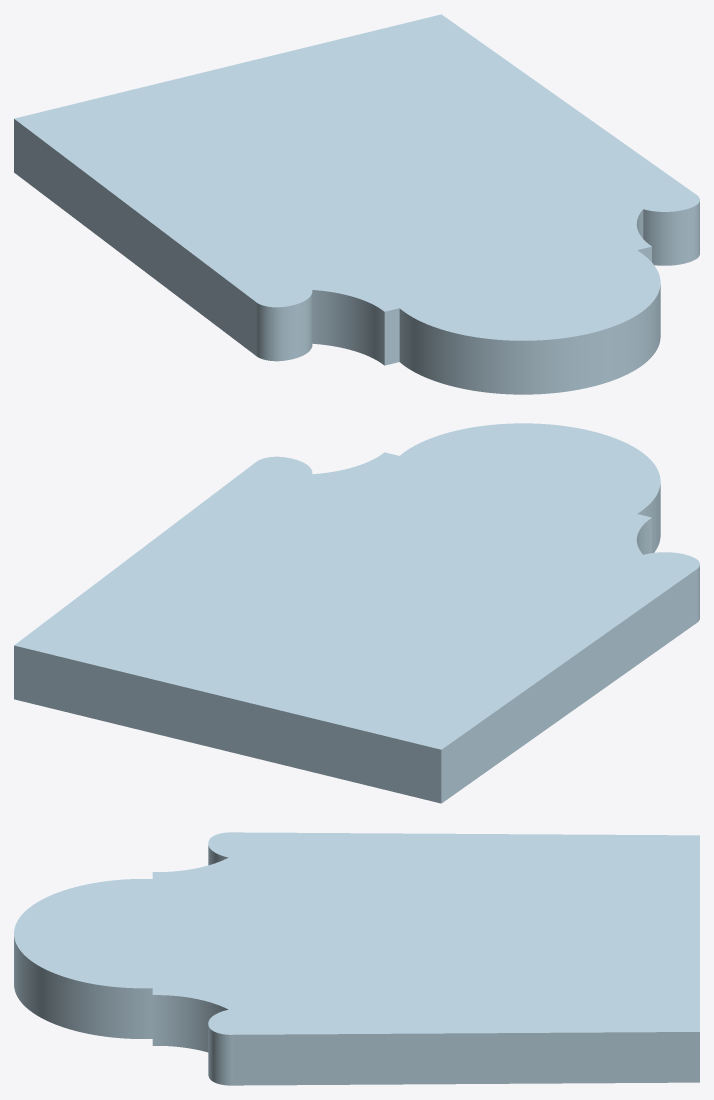
3 renders of one model, top to bottom at view 1: azimuth 30°, elevation 25°; view 2: azimuth 150°, elevation 25°; view 3: azimuth 270°, elevation 25°, orthographic. The views are drawn at different scales.
Parts seen in each view (by area): view 1: PA-2-F_LOD0; view 2: PA-2-F_LOD0; view 3: PA-2-F_LOD0.
Part boxes in pixels (bbox=[...]): PA-2-F_LOD0: bbox=[14, 14, 699, 394]; PA-2-F_LOD0: bbox=[14, 423, 699, 803]; PA-2-F_LOD0: bbox=[14, 832, 699, 1085].
Size of what is drawn, in the model's own units: 43.47 by 5.08 by 62.25.
